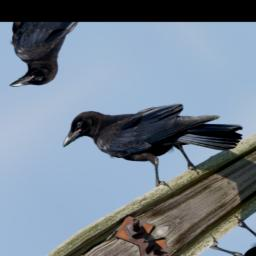Crow: (50, 50, 252, 218)
